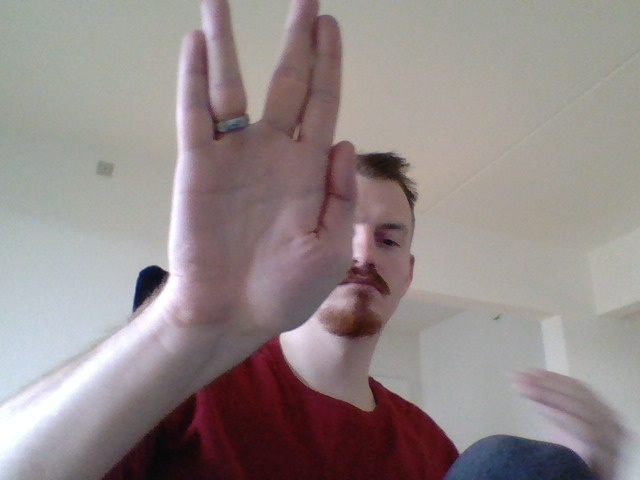LiveLong: (165, 1, 358, 336)
